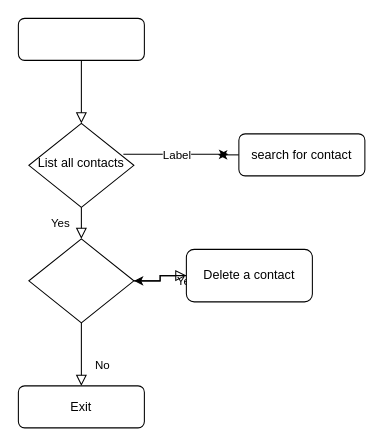
Some shapes in this 383 by 446 pixel diagram are drawn without their labels. Here are the shapes that lost their labels. From the top down, the centre of each, then its label:
point 80,38: Add a new contact
point 81,280: Edit a contact
